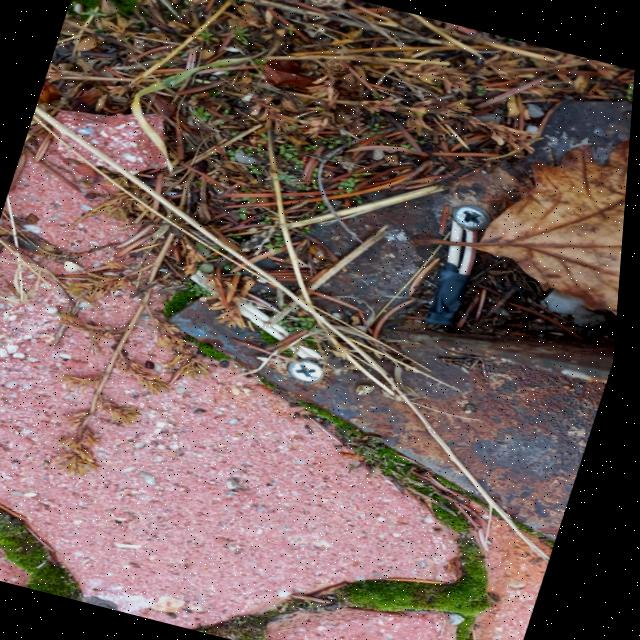Phillips: (440, 196, 500, 234), (279, 354, 333, 387)
